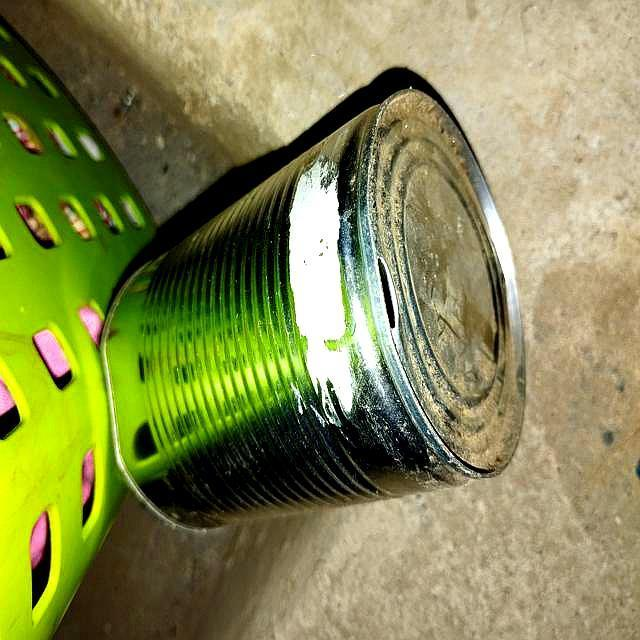Non-biodegradable: (89, 49, 559, 548)
